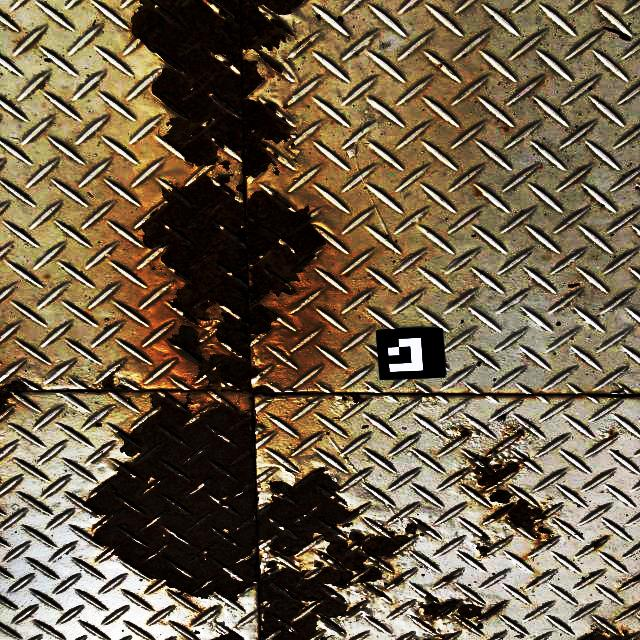Corrosion: (131, 0, 325, 391), (79, 392, 259, 602), (257, 470, 414, 640), (484, 490, 557, 540), (462, 451, 520, 493), (419, 593, 505, 620), (91, 362, 135, 392), (251, 47, 287, 76), (0, 381, 26, 413), (576, 628, 640, 640), (248, 385, 276, 397), (212, 631, 244, 640), (475, 542, 490, 557), (347, 392, 362, 405), (403, 523, 419, 535), (459, 430, 471, 437), (341, 397, 348, 401)
